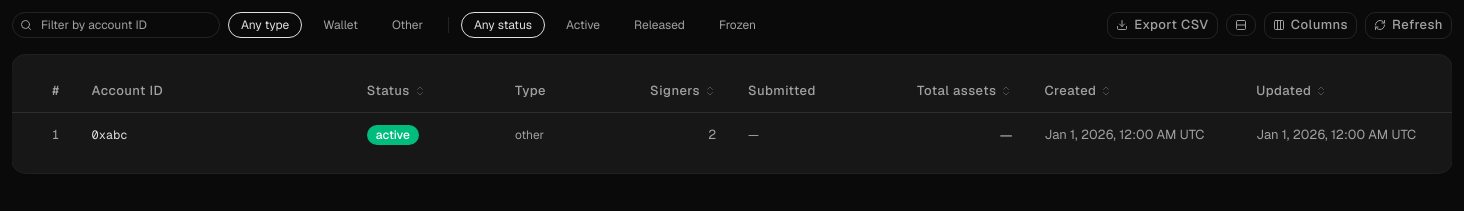
Test: AccountsPanel sorting and export › disables export when the filter leaves no rows
Expected: the button "Export CSV" is enabled, [1107,12,1218,39]
What coordinates should you click on to do the following:
click the button "Wallet"
I would click on:
 (341, 25)
Its box is [310,12,371,38].
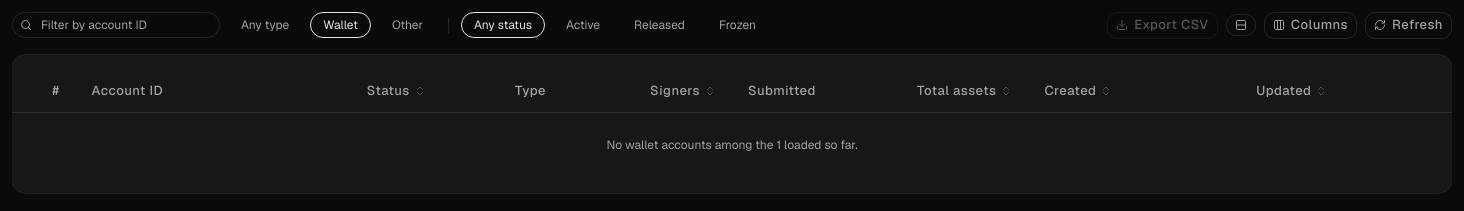
Now the button "Export CSV" is disabled, box [1107,12,1218,39]
